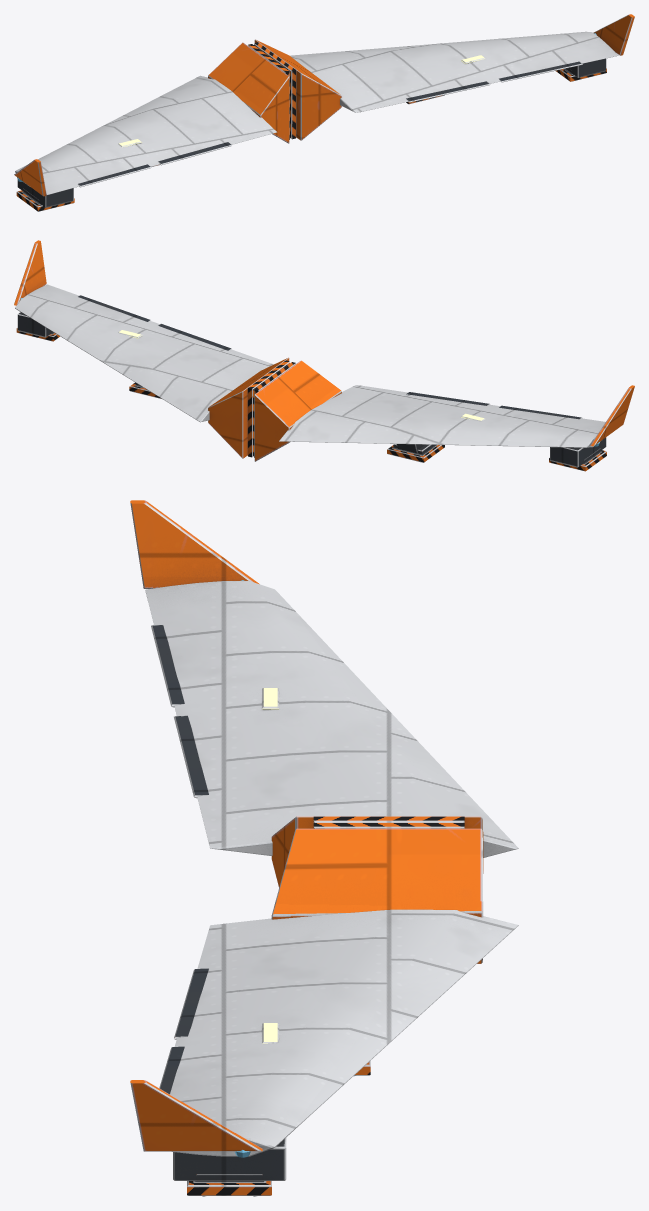
The model's file is ala_media_t2.fbx.
The picture shows the model from 3 angles, top to bottom: view 1: azimuth 30°, elevation 25°; view 2: azimuth 150°, elevation 25°; view 3: azimuth 270°, elevation 25°; orthographic projection. The views are drawn at different scales.
Parts seen in each view (by area): view 1: ala_media_t2_izq, ala_media_t2_der; view 2: ala_media_t2_izq, ala_media_t2_der; view 3: ala_media_t2_der, ala_media_t2_izq.
Boxes of the visible parts, x1,y1,x2,y2 form: ala_media_t2_izq: [14, 42, 289, 211]; ala_media_t2_der: [254, 14, 634, 140]; ala_media_t2_izq: [254, 360, 634, 471]; ala_media_t2_der: [14, 240, 289, 458]; ala_media_t2_der: [130, 822, 518, 1196]; ala_media_t2_izq: [130, 500, 518, 887].
Bounding box in the file's own units: 14.61 × 1.95 × 4.11.
